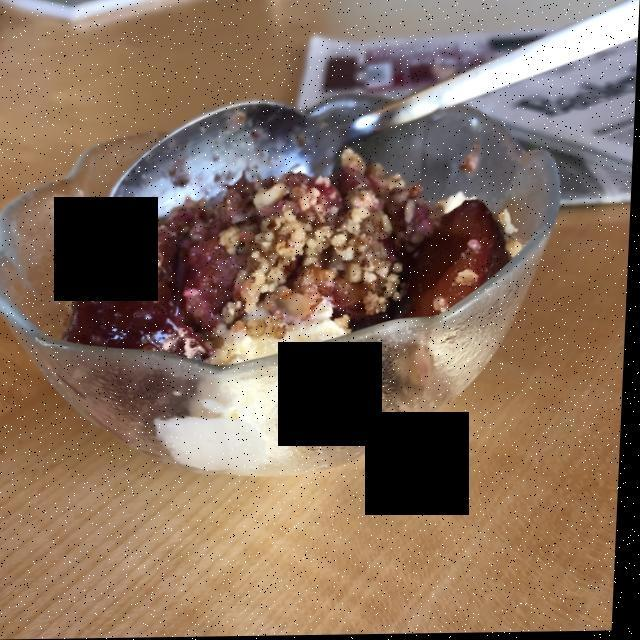ice-cream: (182, 305, 467, 450)
plum: (74, 180, 504, 353)
